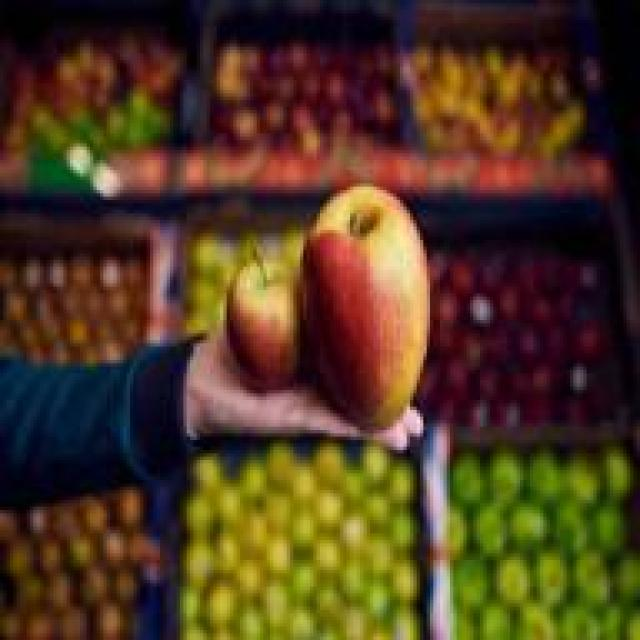apple: (310, 170, 423, 413), (214, 253, 304, 387)
